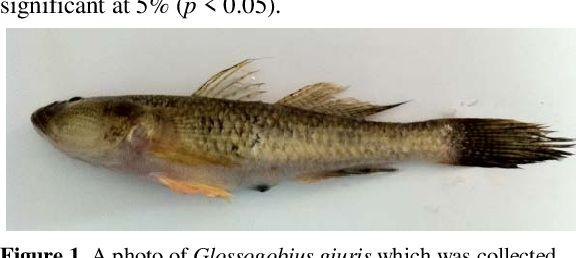Goby: (27, 45, 572, 203)
